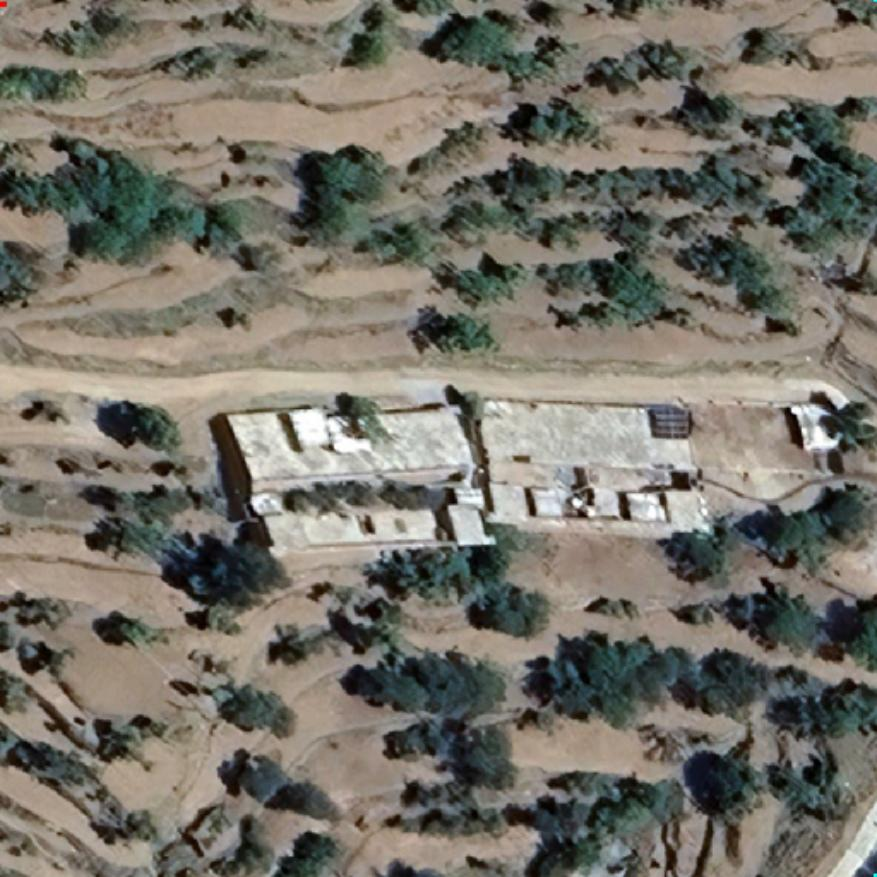Solarpanel: (647, 403, 695, 441)
